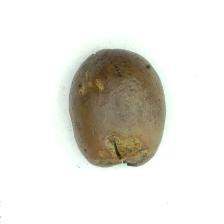NG: (79, 132, 151, 167)
